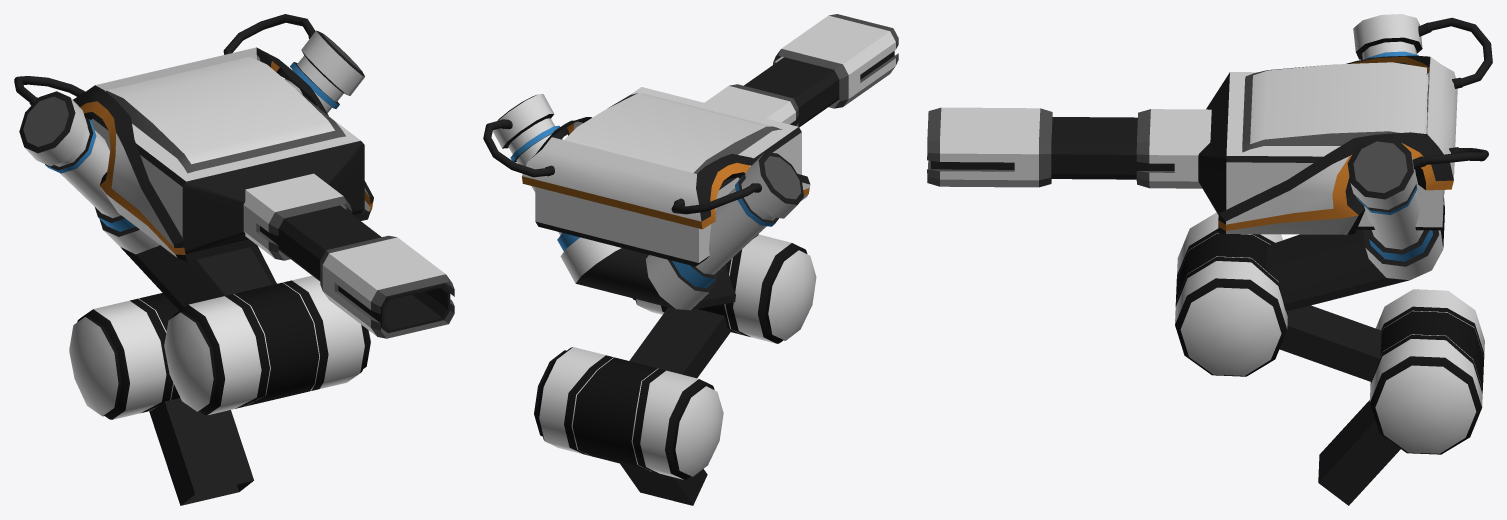
Rendered from tower_cannon_asset.fbx.
3 renders of one model, left to right at view 1: azimuth 30°, elevation 25°; view 2: azimuth 150°, elevation 25°; view 3: azimuth 270°, elevation 25°, orthographic. The views are drawn at different scales.
Visible parts, largest first — view 1: cannon_top, cannon_bottom, cannon_gun_head; view 2: cannon_top, cannon_bottom, cannon_gun_head; view 3: cannon_top, cannon_bottom, cannon_gun_head.
Boxes of the visible parts, x1,y1,x2,y2 form: cannon_top: (14,14,450,415); cannon_bottom: (69,293,253,505); cannon_gun_head: (320,235,454,338); cannon_top: (483,51,894,343); cannon_bottom: (534,307,731,505); cannon_gun_head: (773,14,898,108); cannon_top: (930,14,1492,376); cannon_bottom: (1279,289,1484,505); cannon_gun_head: (927,107,1052,187).
Bounding box in the file's own units: 43.13 × 52.25 × 64.22.
